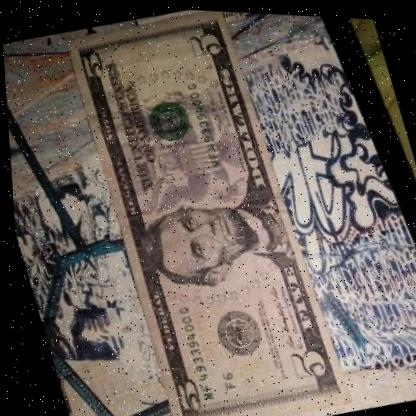dollar_front: (56, 2, 341, 416)
